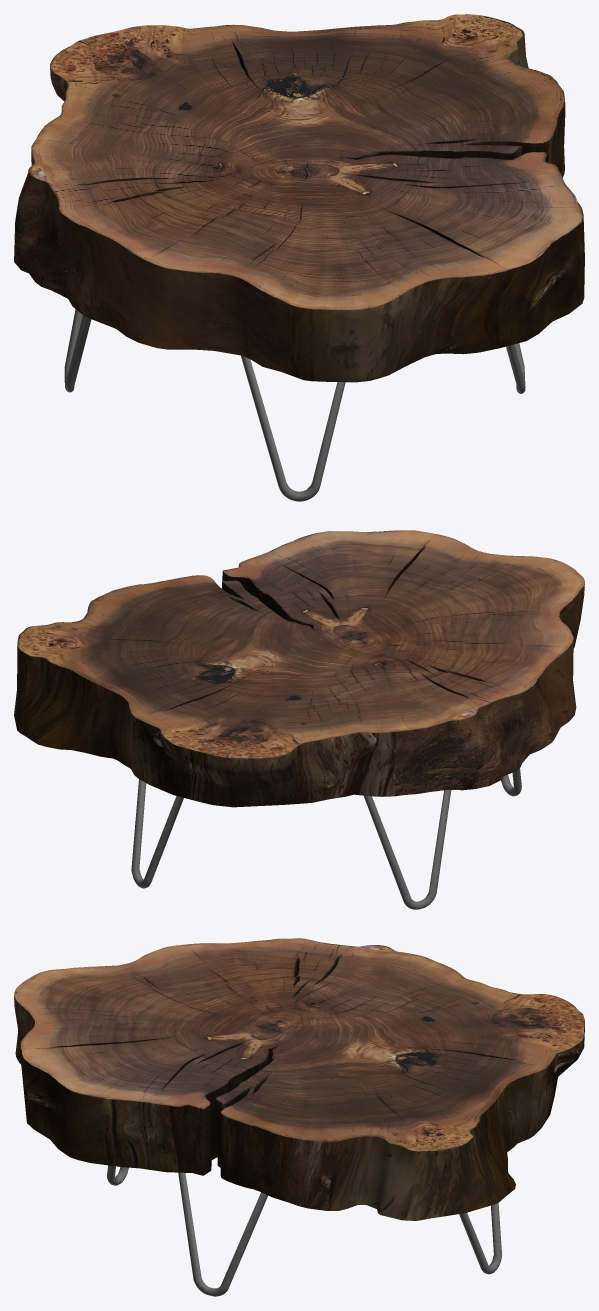
3 renders of one model, top to bottom at view 1: azimuth 30°, elevation 25°; view 2: azimuth 150°, elevation 25°; view 3: azimuth 270°, elevation 25°, orthographic. The views are drawn at different scales.
Visible parts, largest first — view 1: Object009_low002_Coffee_table_of_elm_cut_3_75_0, Object009_low002_Coffee_table_of_elm_cut_1_79_0; view 2: Object009_low002_Coffee_table_of_elm_cut_3_75_0, Object009_low002_Coffee_table_of_elm_cut_1_79_0; view 3: Object009_low002_Coffee_table_of_elm_cut_3_75_0, Object009_low002_Coffee_table_of_elm_cut_1_79_0.
Boxes of the visible parts, x1=… form: Object009_low002_Coffee_table_of_elm_cut_3_75_0: x1=14, y1=14, x2=584, y2=382; Object009_low002_Coffee_table_of_elm_cut_1_79_0: x1=64, y1=309, x2=525, y2=501; Object009_low002_Coffee_table_of_elm_cut_3_75_0: x1=14, y1=530, x2=584, y2=807; Object009_low002_Coffee_table_of_elm_cut_1_79_0: x1=131, y1=768, x2=521, y2=909; Object009_low002_Coffee_table_of_elm_cut_3_75_0: x1=14, y1=938, x2=584, y2=1220; Object009_low002_Coffee_table_of_elm_cut_1_79_0: x1=107, y1=1165, x2=501, y2=1296.
Size of the model in its own units: 0.9201 by 0.3813 by 1.01.
Materials: 2 (1 with a texture image).
